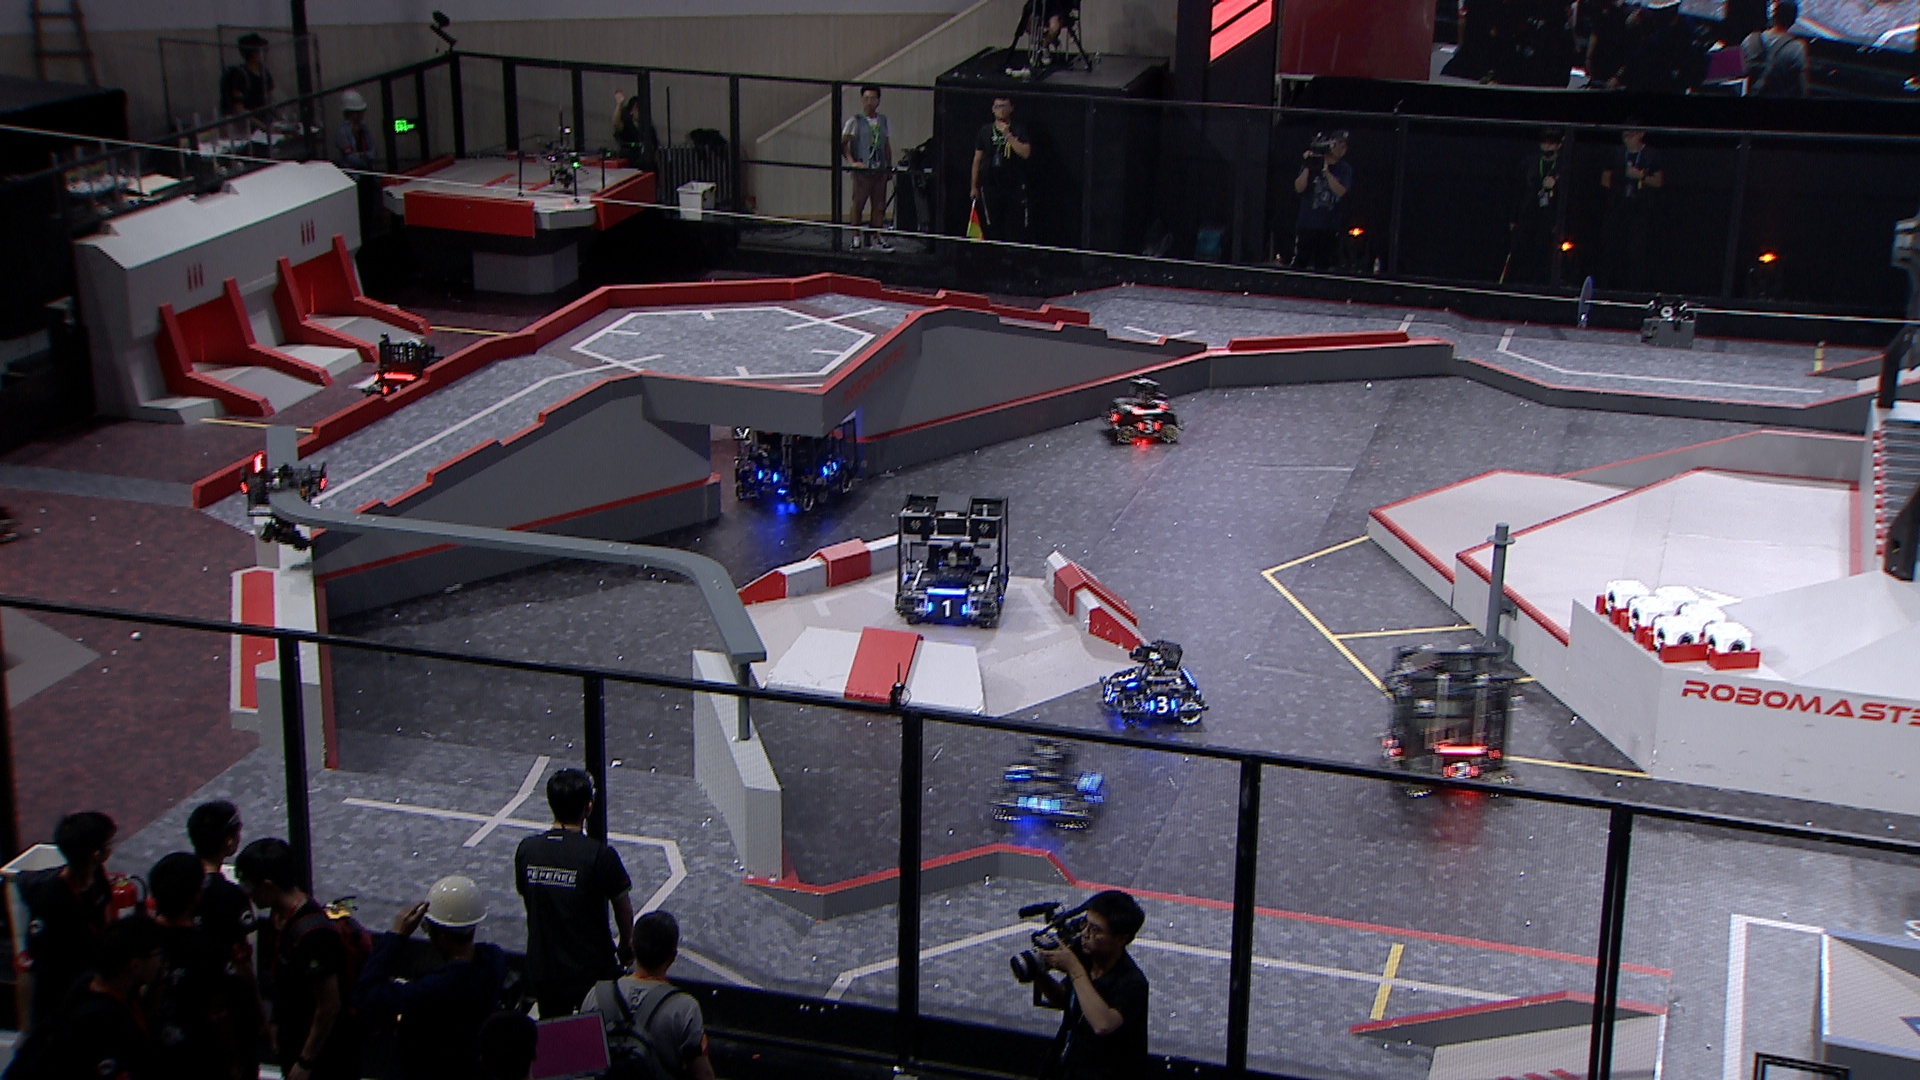armor: (926, 600, 968, 618), (1005, 754, 1030, 782), (1443, 761, 1476, 779), (1021, 793, 1048, 814), (1079, 770, 1100, 787), (1138, 418, 1160, 434), (1381, 736, 1395, 760), (1153, 698, 1174, 713), (1102, 406, 1120, 425), (754, 469, 775, 483), (1120, 671, 1135, 688), (385, 378, 400, 396), (822, 460, 839, 475), (1101, 684, 1116, 702), (1153, 396, 1168, 409)
car: (1373, 642, 1528, 802), (891, 489, 1011, 632), (727, 401, 860, 516), (986, 725, 1110, 831), (1096, 637, 1207, 732), (363, 334, 458, 418), (1098, 372, 1183, 444)
watcher: (235, 454, 328, 553)
